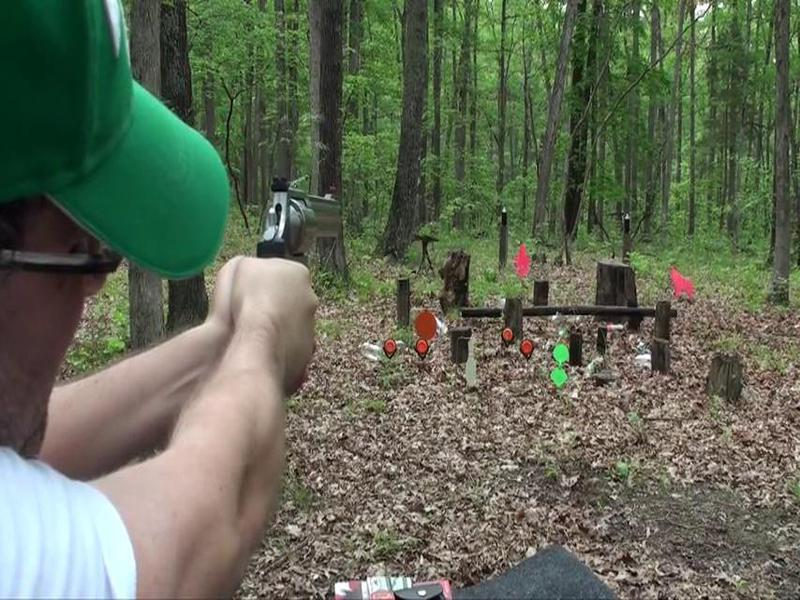Revolver: (245, 154, 363, 290)
